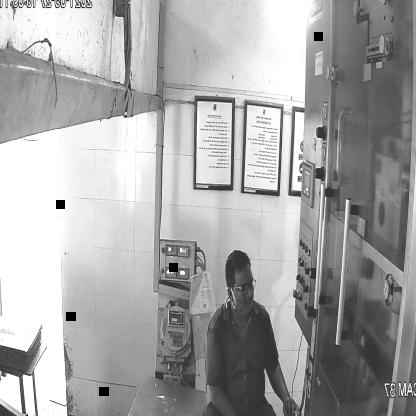goggles: (223, 274, 263, 302)
